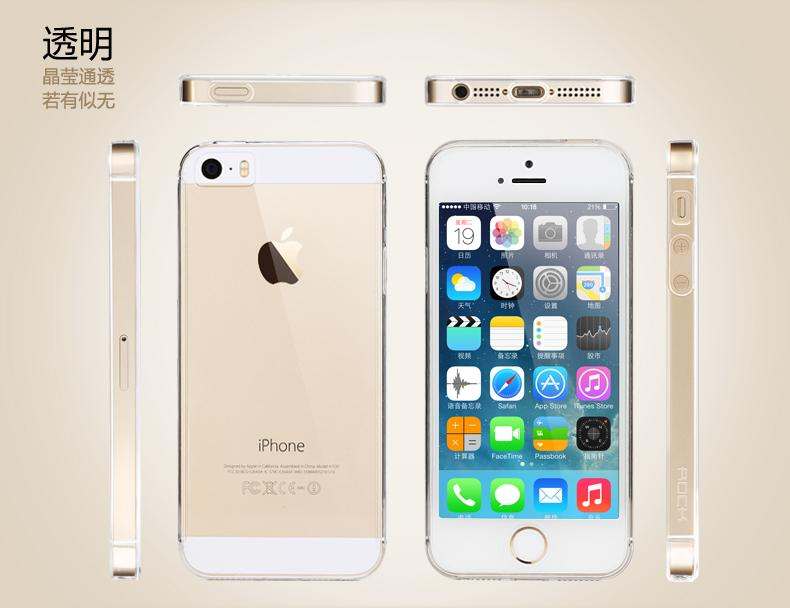phone: (423, 140, 634, 583), (176, 141, 386, 577), (104, 139, 145, 583), (665, 136, 698, 584), (176, 70, 387, 109), (424, 74, 636, 109)
